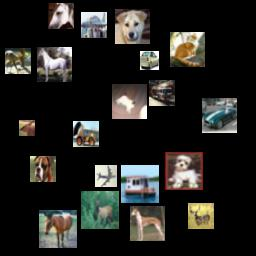airplane: (81, 12, 107, 38), (95, 165, 117, 187)
automobile: (202, 98, 237, 133), (140, 51, 159, 70)
cat: (112, 84, 147, 119), (170, 32, 205, 67)
deer: (81, 191, 119, 229), (5, 48, 31, 74), (188, 203, 214, 229), (19, 120, 35, 136)
dog: (165, 152, 203, 190), (130, 206, 165, 241), (115, 9, 150, 44), (30, 156, 56, 182)
ship: (121, 165, 159, 203)
truck: (149, 80, 175, 106), (73, 121, 99, 147)
